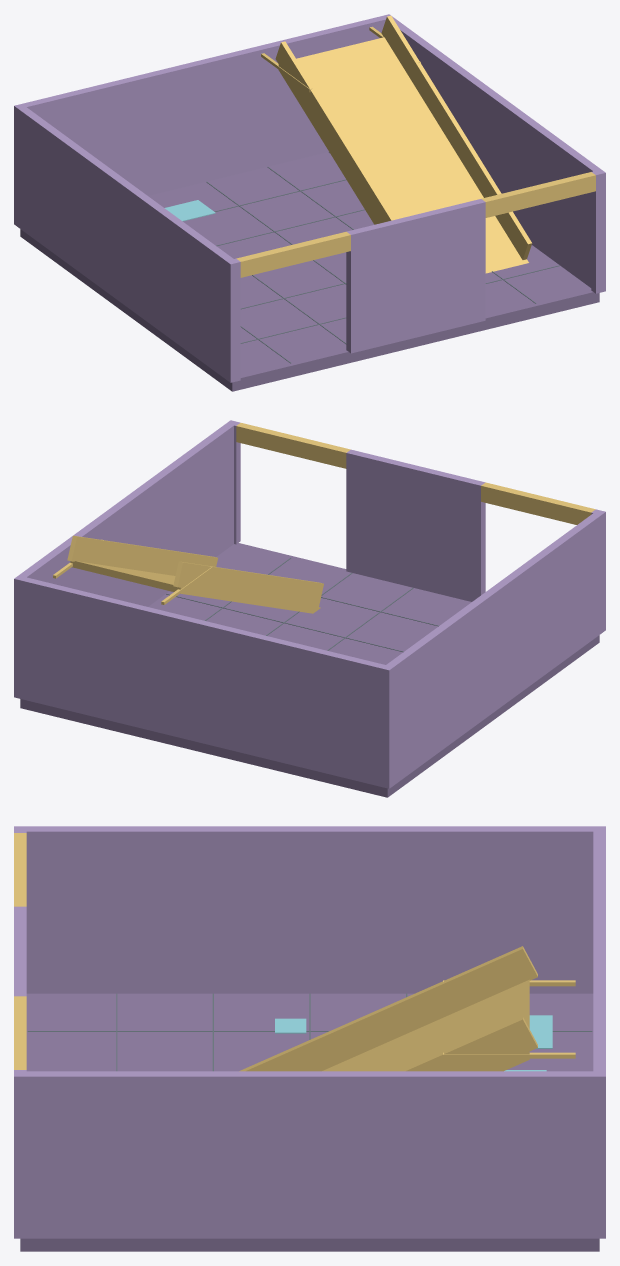
File: Loot3.fbx
The picture shows the model from 3 angles, top to bottom: view 1: azimuth 30°, elevation 25°; view 2: azimuth 150°, elevation 25°; view 3: azimuth 270°, elevation 25°; orthographic projection. The views are drawn at different scales.
Parts seen in each view (by area): view 1: Loot3__Floor, Loot3__west_Wall, Loot3__north_Wall, Loot3__Upper_Ramp, Loot3__south_Wall_2, Loot3__east_Wall, Loot3__Ramp_Rail_R_01, Loot3__Ramp_Rail_L_01, Loot3__south_Lintel_1, Loot3__south_Lintel_2, Loot3__south_Wall_1, Loot3__Pad_LootSpawn_03_Big; view 2: Loot3__north_Wall, Loot3__west_Wall, Loot3__Floor, Loot3__south_Wall_2, Loot3__east_Wall, Loot3__Ramp_Rail_L_01, Loot3__Ramp_Rail_R_01, Loot3__south_Lintel_1, Loot3__Upper_Ramp, Loot3__south_Lintel_2, Loot3__south_Wall_1; view 3: Loot3__east_Wall, Loot3__west_Wall, Loot3__Floor, Loot3__Ramp_Rail_L_01, Loot3__Upper_Ramp, Loot3__Ramp_Rail_R_01, Loot3__north_Wall, Loot3__south_Wall_2, Loot3__south_Lintel_1, Loot3__south_Lintel_2, Loot3__Upper_Rim.001, Loot3__Pad_LootSpawn_04_Wide.
Part boxes in pixels (<box>): Loot3__Floor: <box>20,152,599,391</box>; Loot3__west_Wall: <box>14,104,238,382</box>; Loot3__north_Wall: <box>22,14,392,195</box>; Loot3__Upper_Ramp: <box>278,37,528,273</box>; Loot3__south_Wall_2: <box>346,199,485,353</box>; Loot3__east_Wall: <box>381,14,605,292</box>; Loot3__Ramp_Rail_R_01: <box>381,15,532,259</box>; Loot3__Ramp_Rail_L_01: <box>275,41,395,223</box>; Loot3__south_Lintel_1: <box>481,172,595,217</box>; Loot3__south_Lintel_2: <box>236,231,350,277</box>; Loot3__south_Wall_1: <box>591,171,601,293</box>; Loot3__Pad_LootSpawn_03_Big: <box>164,200,215,221</box>; Loot3__north_Wall: <box>14,575,393,788</box>; Loot3__west_Wall: <box>381,510,605,788</box>; Loot3__Floor: <box>20,543,599,797</box>; Loot3__south_Wall_2: <box>346,449,485,601</box>; Loot3__east_Wall: <box>14,420,238,699</box>; Loot3__Ramp_Rail_L_01: <box>173,561,323,608</box>; Loot3__Ramp_Rail_R_01: <box>67,535,217,575</box>; Loot3__south_Lintel_1: <box>236,423,350,468</box>; Loot3__Upper_Ramp: <box>70,561,320,613</box>; Loot3__south_Lintel_2: <box>481,482,595,524</box>; Loot3__south_Wall_1: <box>234,421,240,544</box>; Loot3__east_Wall: <box>14,1071,605,1238</box>; Loot3__west_Wall: <box>14,826,605,993</box>; Loot3__Floor: <box>20,993,599,1251</box>; Loot3__Ramp_Rail_L_01: <box>239,946,537,1071</box>; Loot3__Upper_Ramp: <box>322,979,529,1071</box>; Loot3__Ramp_Rail_R_01: <box>399,1016,537,1071</box>; Loot3__north_Wall: <box>593,826,605,1071</box>; Loot3__south_Wall_2: <box>14,906,26,996</box>; Loot3__south_Lintel_1: <box>14,996,26,1069</box>; Loot3__south_Lintel_2: <box>14,833,26,906</box>; Loot3__Upper_Rim.001: <box>443,1052,575,1058</box>; Loot3__Pad_LootSpawn_04_Wide: <box>529,1015,552,1048</box>.
Bounding box in the file's own units: 1226 × 493 × 1226.
